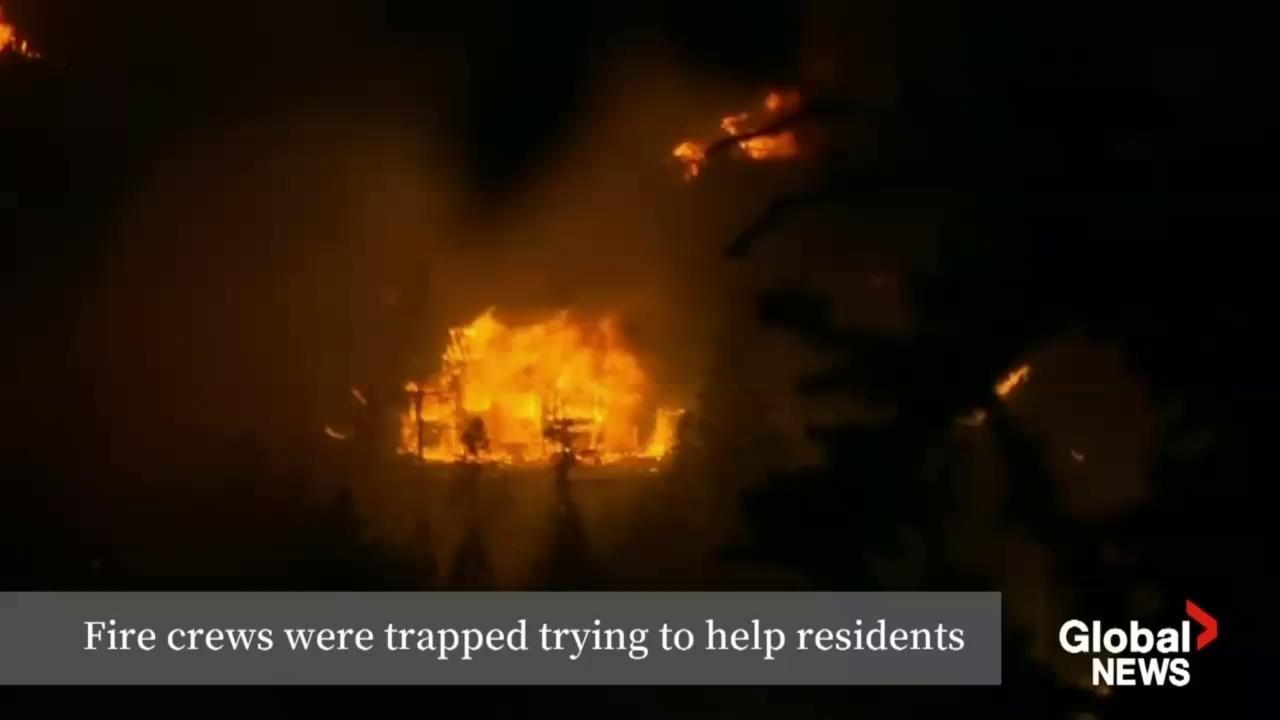fire: (377, 297, 690, 473), (717, 79, 802, 161), (0, 0, 52, 69), (667, 136, 706, 183), (990, 364, 1033, 397)
smoke: (99, 56, 897, 590)
